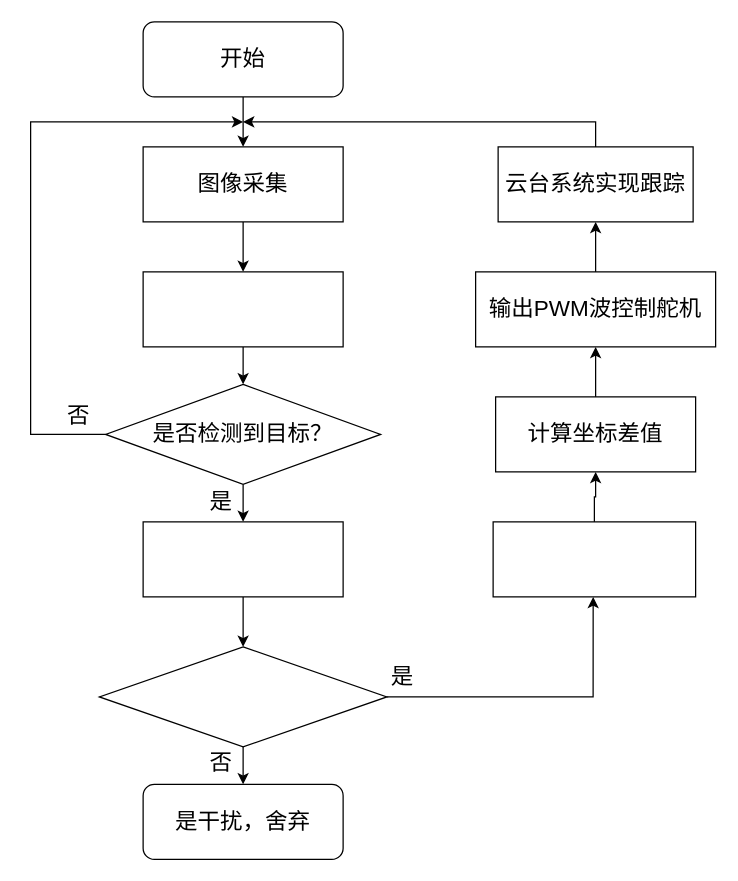
The diagram is 738 pixels wide and 881 high, and some of its shapes have lost their labels. The box of each missing label's shape, as (x1, y1, x2, y2) in pixels:
是否是运动目标？: (98, 646, 387, 747)
运动目标检测: (142, 271, 343, 347)
运动轨迹判断: (142, 521, 343, 597)
运动轨迹预测: (492, 521, 696, 597)
